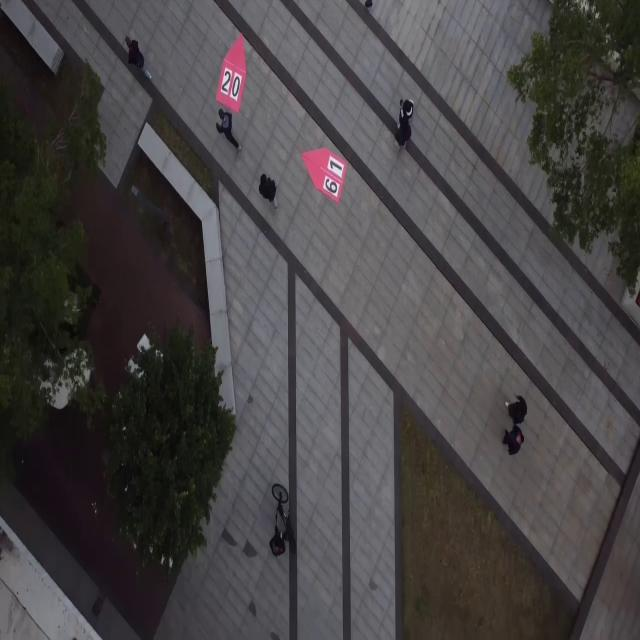-sign-: (215, 32, 247, 114), (301, 146, 347, 203)
